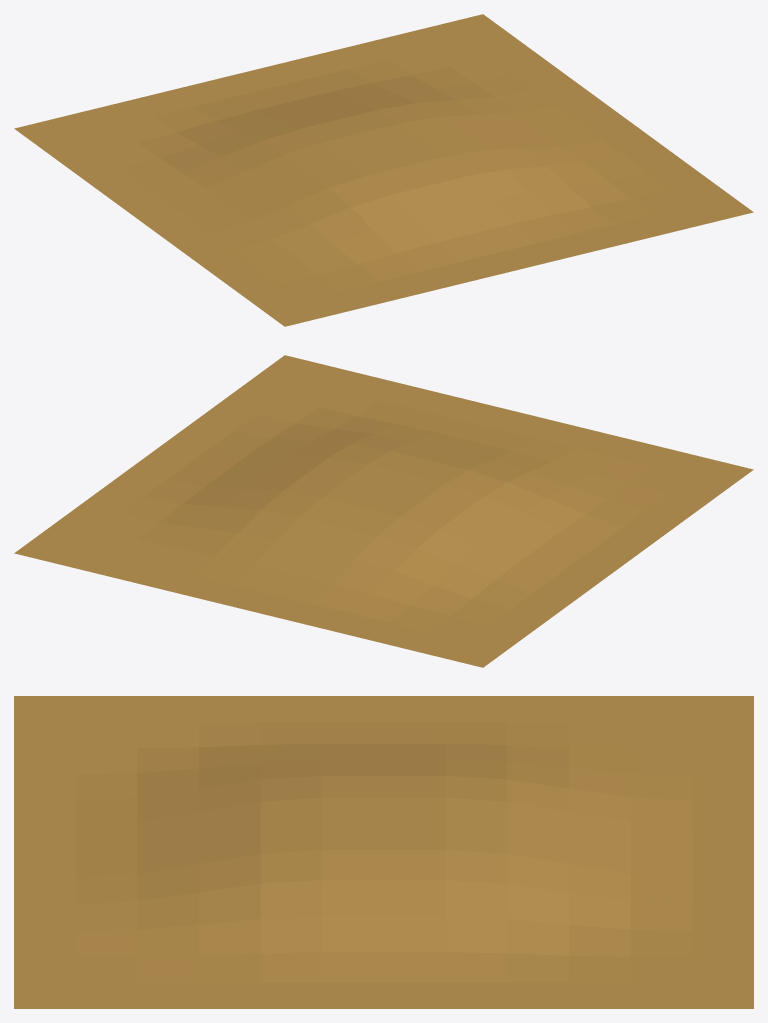
Rendered from SM_Env_GroundMound_02.obj.
3 views of the same model, one above another, from view 1: azimuth 30°, elevation 25°; view 2: azimuth 150°, elevation 25°; view 3: azimuth 270°, elevation 25° (orthographic). The views are drawn at different scales.
Visible parts, largest first — view 1: SM_Env_GroundMound_02:Mesh; view 2: SM_Env_GroundMound_02:Mesh; view 3: SM_Env_GroundMound_02:Mesh.
Boxes of the visible parts, left/top/right/bottom form: SM_Env_GroundMound_02:Mesh: left=14, top=14, right=753, bottom=326; SM_Env_GroundMound_02:Mesh: left=14, top=355, right=753, bottom=667; SM_Env_GroundMound_02:Mesh: left=14, top=696, right=753, bottom=1008.
Size of the model in its own units: 30.02 by 1.28 by 30.02.
Materials: 1 (1 with a texture image).
